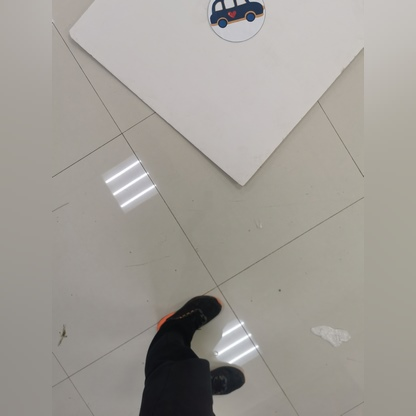car: (207, 0, 274, 39)
